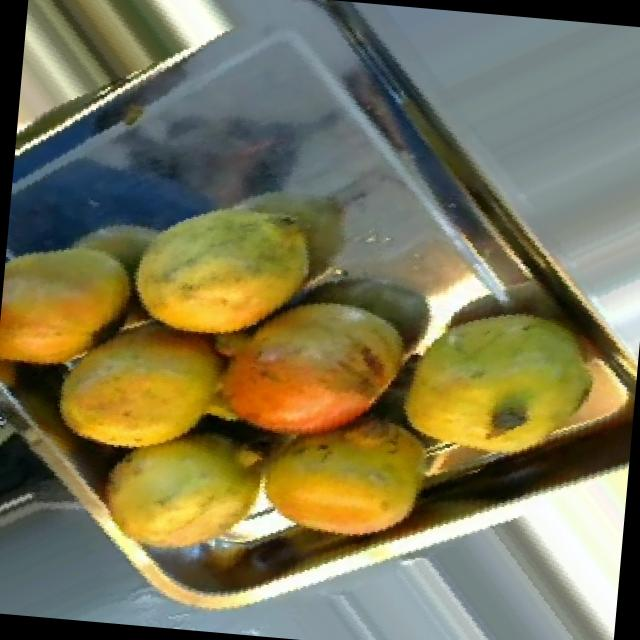fruit: (366, 269, 640, 523), (186, 266, 442, 484), (26, 292, 254, 488), (230, 384, 462, 574), (106, 182, 336, 366), (0, 220, 153, 398)
